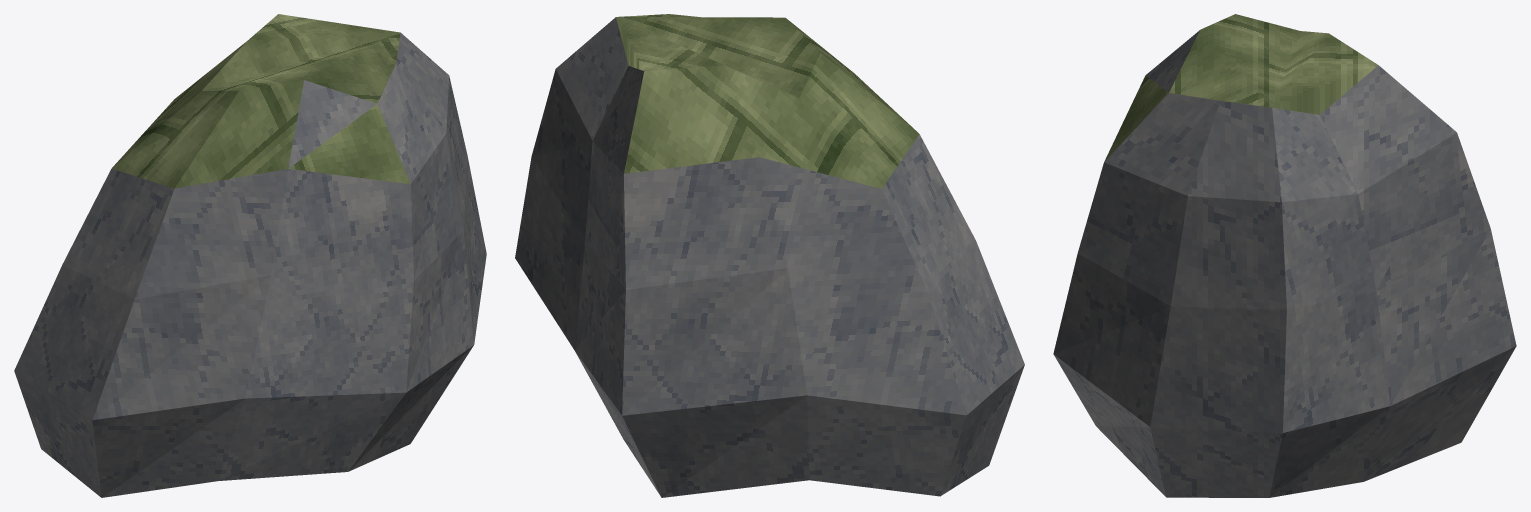
File: MeadowOutcrop.fbx
3 views of the same model, side by side, from view 1: azimuth 30°, elevation 25°; view 2: azimuth 150°, elevation 25°; view 3: azimuth 270°, elevation 25° (orthographic). The views are drawn at different scales.
Visible parts, largest first — view 1: Set; view 2: Set; view 3: Set.
Boxes of the visible parts, left/top/right/bottom form: Set: left=14, top=14, right=486, bottom=497; Set: left=515, top=14, right=1024, bottom=497; Set: left=1053, top=14, right=1516, bottom=497.
Bounding box in the file's own units: 425 × 338 × 339.
